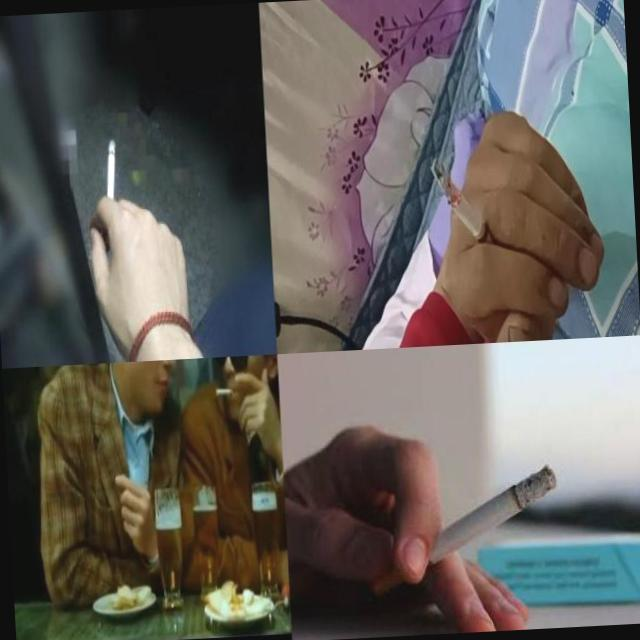cigarette: (366, 464, 562, 596), (432, 155, 499, 258), (99, 125, 127, 212), (214, 387, 233, 398)
